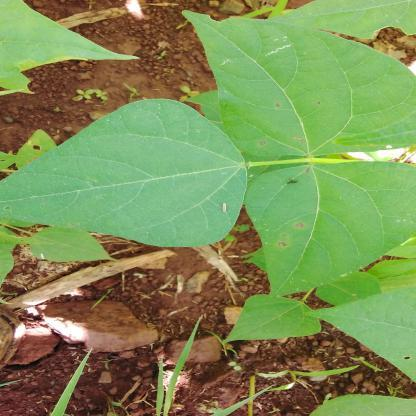Beans_Angular_LeafSpot: (184, 8, 416, 161), (246, 168, 416, 295), (16, 126, 56, 178)
